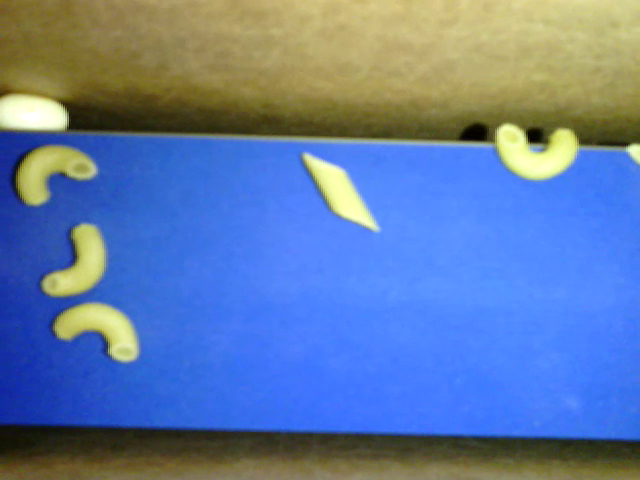elbow: (53, 301, 138, 362), (493, 121, 579, 181), (14, 145, 98, 205), (41, 223, 105, 297)
penne: (302, 153, 377, 230)
